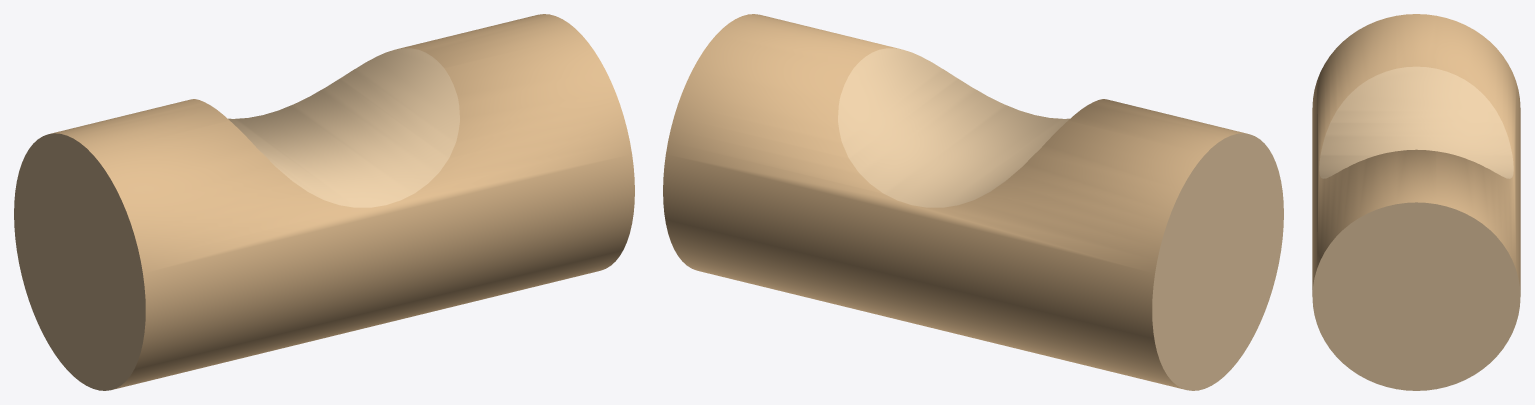
File: SM_RawLog_75_SaddleA_Cradle.fbx
3 renders of one model, left to right at view 1: azimuth 30°, elevation 25°; view 2: azimuth 150°, elevation 25°; view 3: azimuth 270°, elevation 25°, orthographic. The views are drawn at different scales.
Visible parts, largest first — view 1: RawLog_75_SaddleA_Cradle; view 2: RawLog_75_SaddleA_Cradle; view 3: RawLog_75_SaddleA_Cradle.
Part boxes in pixels (bbox=[...]): RawLog_75_SaddleA_Cradle: bbox=[14, 14, 634, 390]; RawLog_75_SaddleA_Cradle: bbox=[663, 14, 1283, 390]; RawLog_75_SaddleA_Cradle: bbox=[1312, 14, 1520, 390].
Size of what is drawn, in the model's own units: 0.75 by 0.35 by 0.35.
